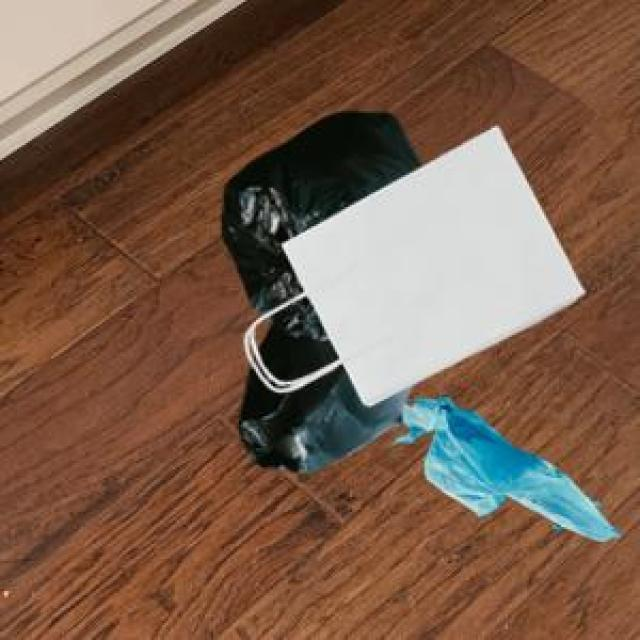miscellaneous trash: (218, 109, 418, 467)
paper: (241, 122, 580, 401)
